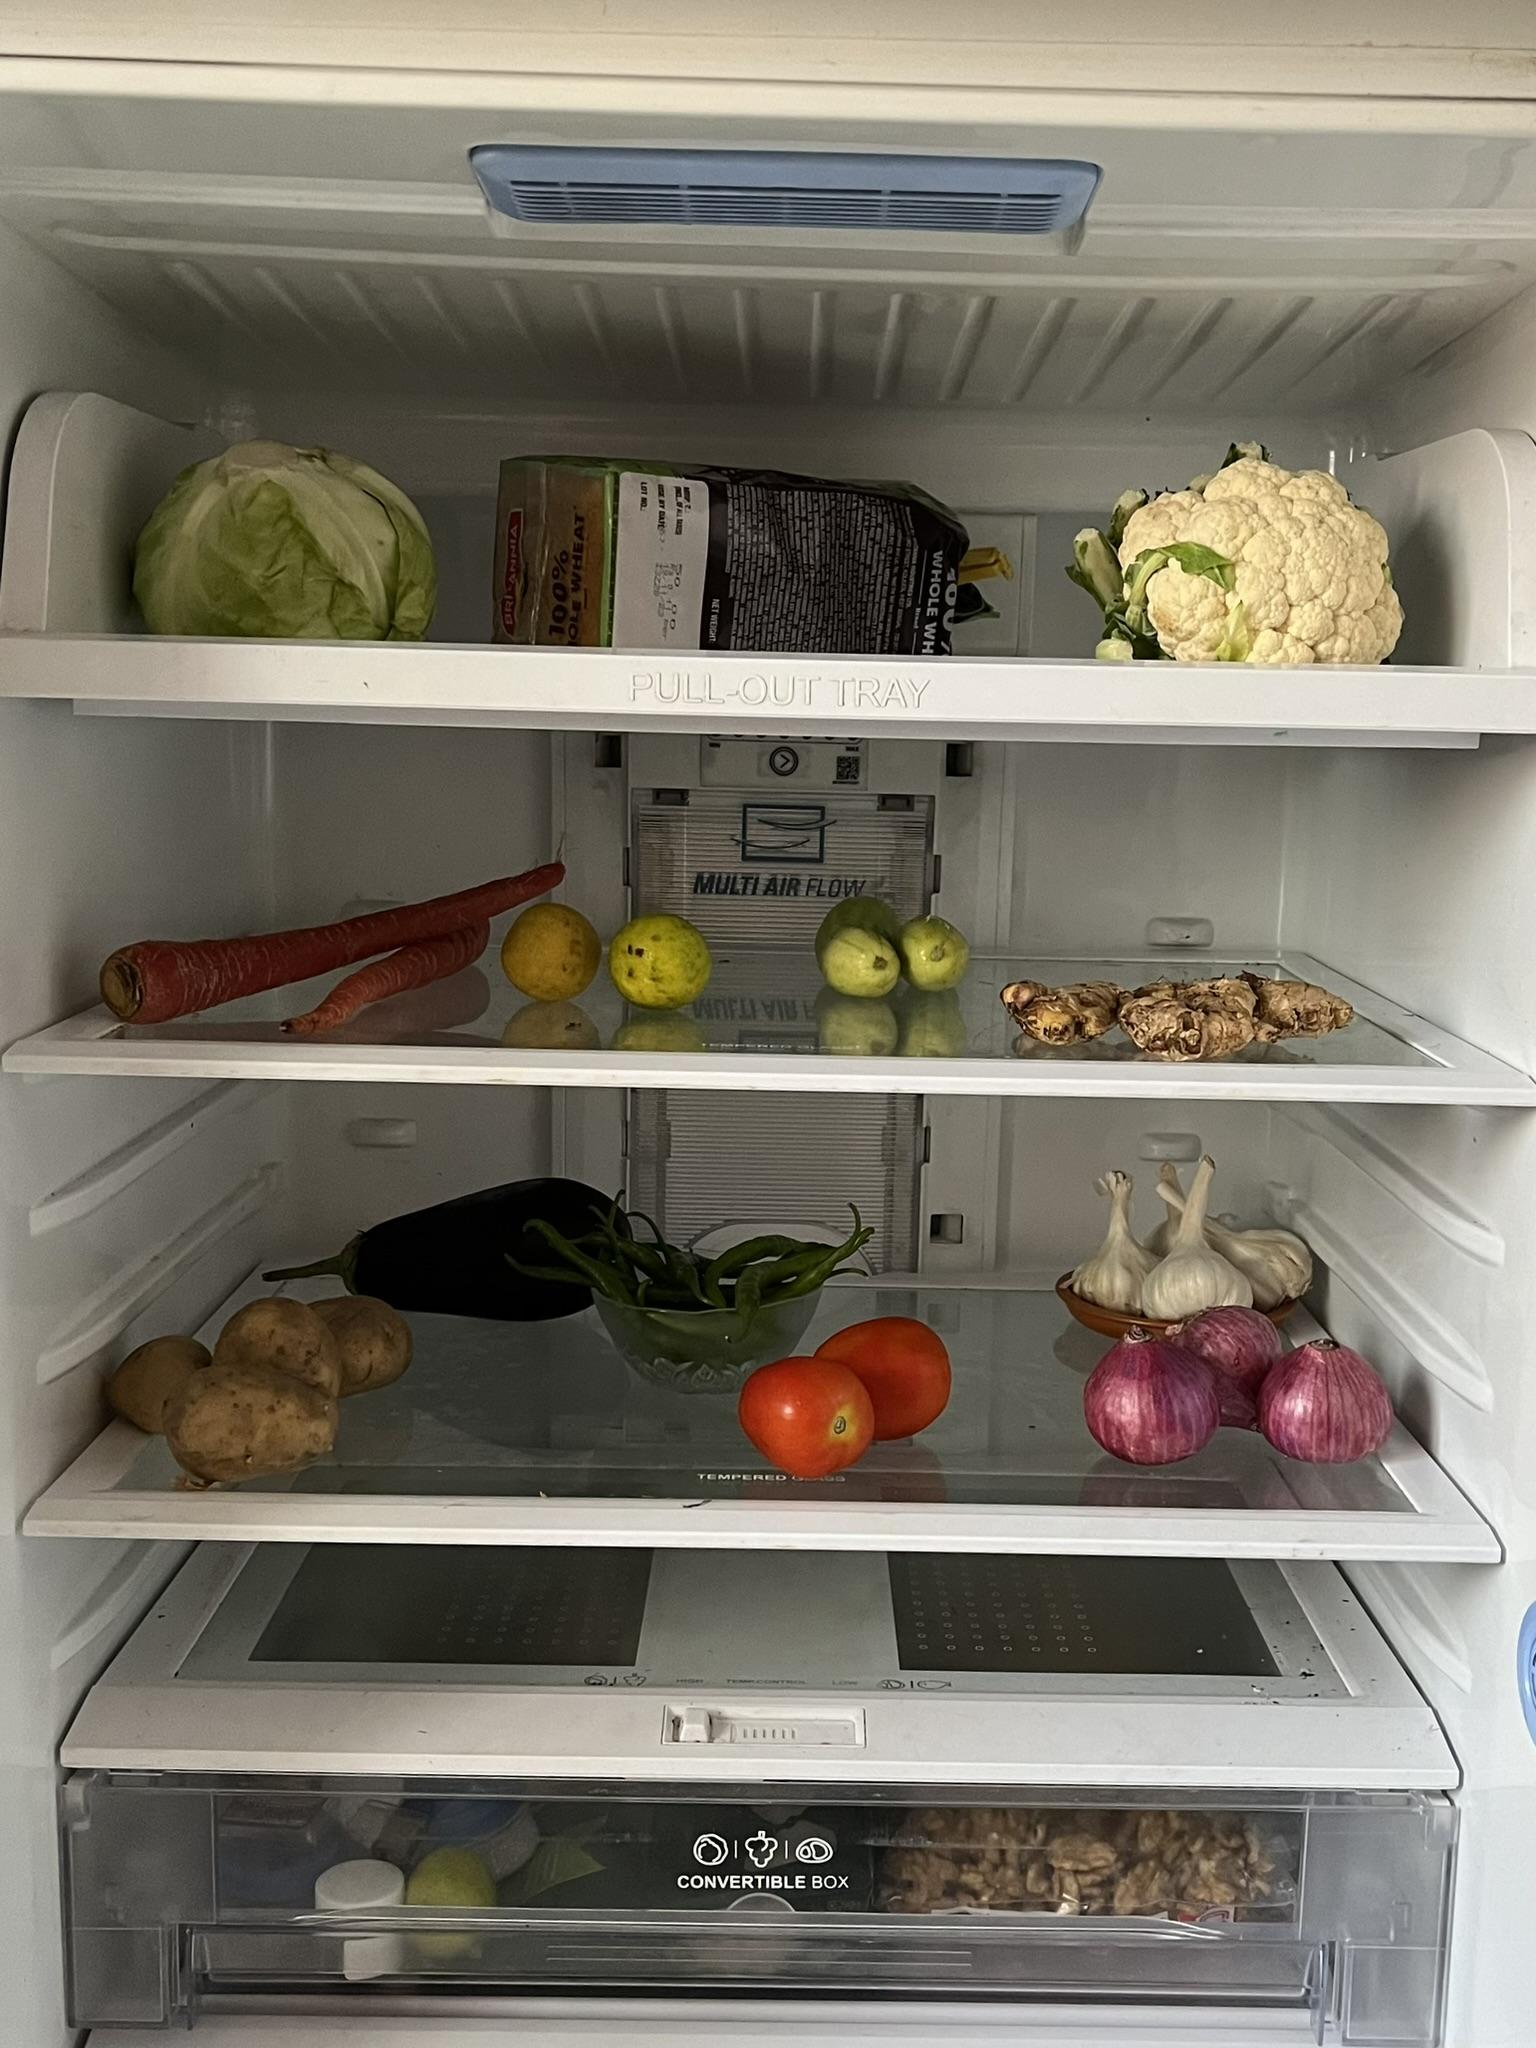bread: (487, 437, 1021, 651)
bringal: (282, 1182, 637, 1309)
cabbage: (142, 432, 421, 632)
carrots: (102, 851, 537, 1019)
cauliflower: (1092, 432, 1397, 663)
chillies: (587, 1211, 841, 1379)
garlic: (1071, 1142, 1325, 1316)
ginger: (1007, 972, 1363, 1056)
lemon: (516, 897, 744, 1009), (807, 887, 971, 992)
onion: (1102, 1306, 1391, 1479)
potato: (97, 1292, 408, 1500)
tomato: (752, 1311, 950, 1476)
